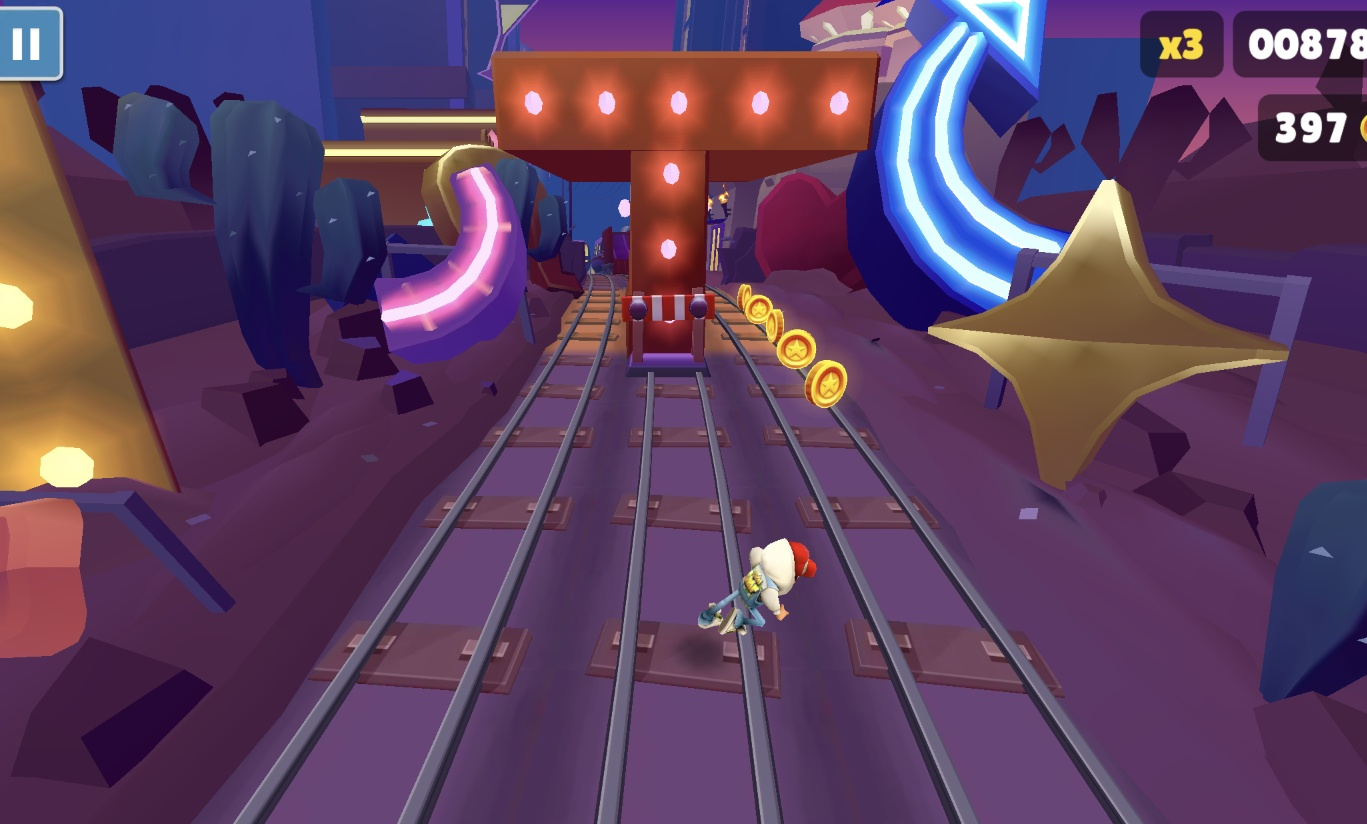ground_barrier: (620, 294, 717, 380)
pillar: (628, 149, 718, 365)
train: (574, 241, 594, 274)
